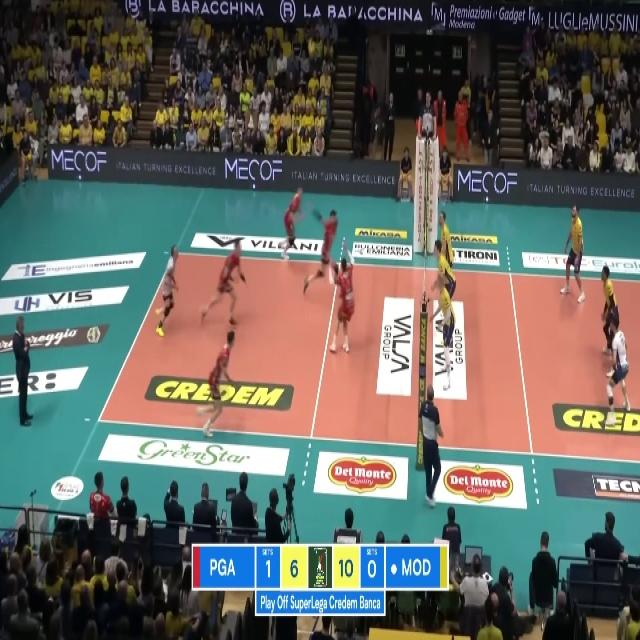volleyball court: (97, 251, 639, 460)
